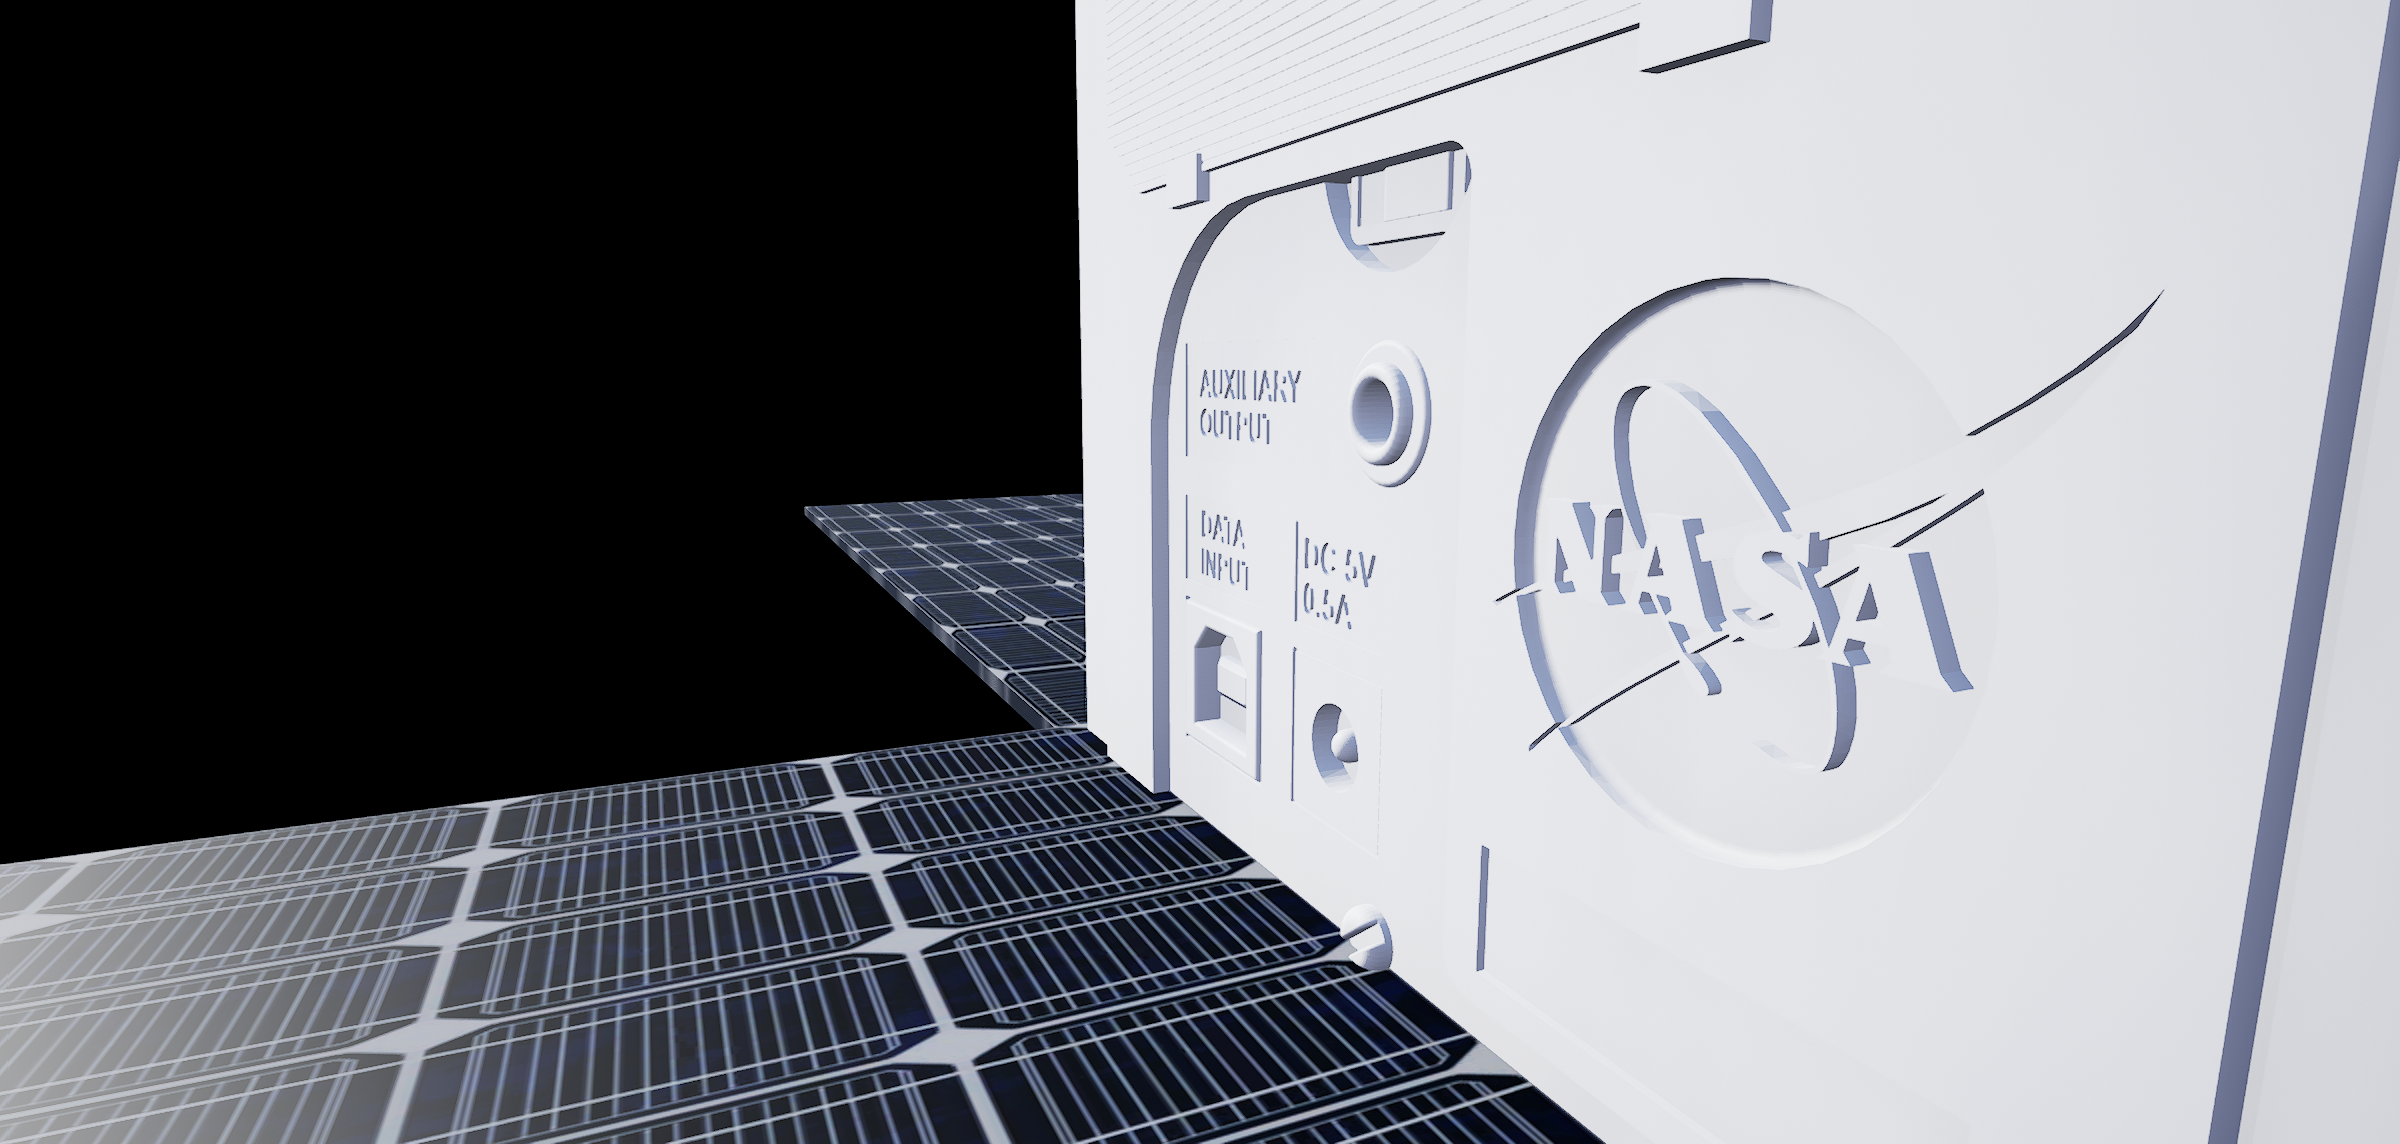aux: (1338, 338, 1442, 495)
dc: (1306, 694, 1368, 802)
usb: (1188, 620, 1254, 757)
